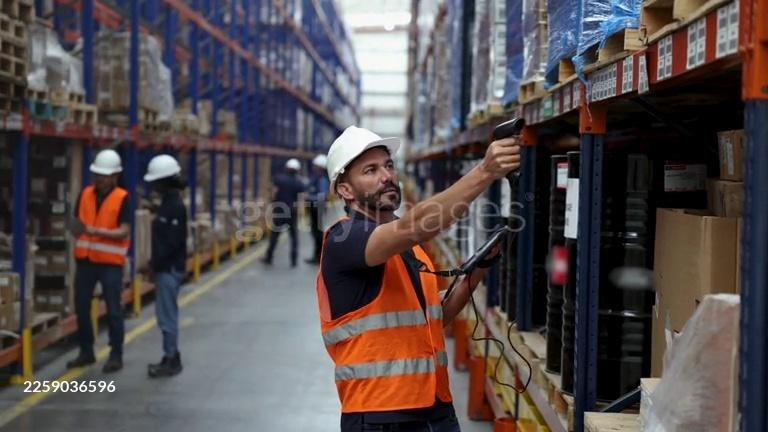helmet: (328, 125, 402, 185), (143, 154, 182, 182), (89, 149, 124, 175), (309, 154, 330, 175), (283, 158, 301, 171)
person: (313, 126, 523, 432), (65, 149, 135, 372), (142, 152, 189, 379), (261, 159, 309, 269), (307, 154, 336, 263)
